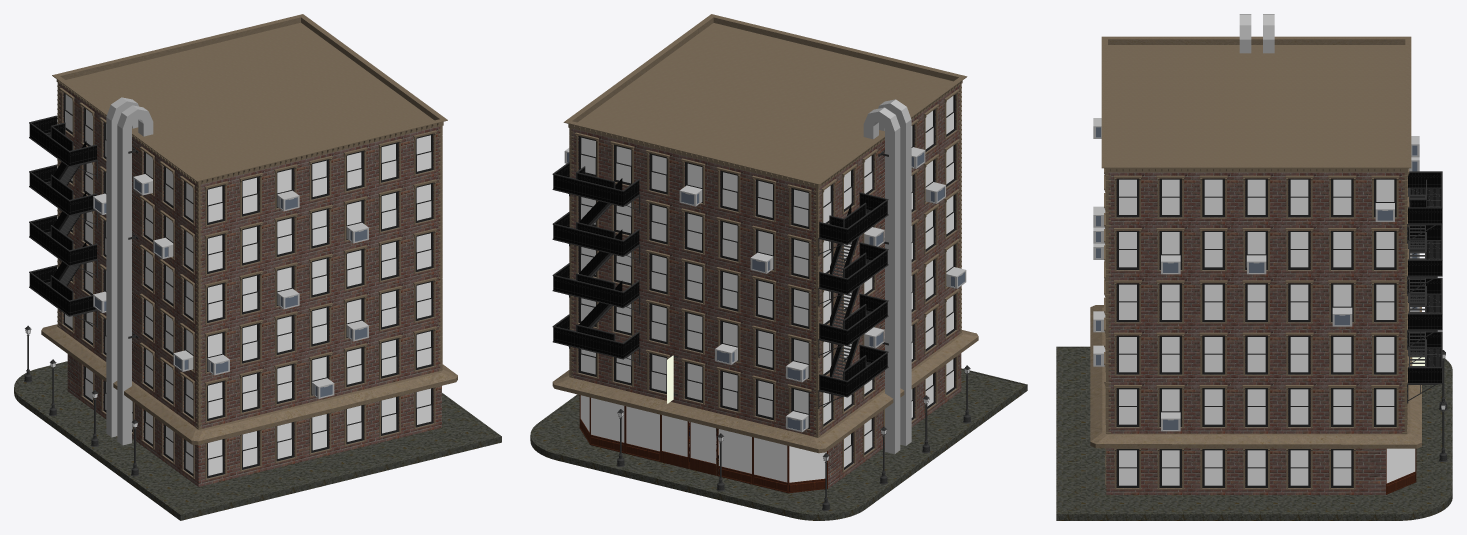
File: Building01_joined.glb
3 views of the same model, side by side, from view 1: azimuth 30°, elevation 25°; view 2: azimuth 150°, elevation 25°; view 3: azimuth 270°, elevation 25° (orthographic). The views are drawn at different scales.
Parts seen in each view (by area): view 1: ConsolidatedMesh; view 2: ConsolidatedMesh; view 3: ConsolidatedMesh.
Boxes of the visible parts, left/top/right/bottom form: ConsolidatedMesh: left=14, top=14, right=501, bottom=520; ConsolidatedMesh: left=530, top=14, right=1027, bottom=520; ConsolidatedMesh: left=1056, top=14, right=1452, bottom=520.
Bounding box in the file's own units: 23.31 × 24.07 × 23.31.
22 materials, 10 textured.
